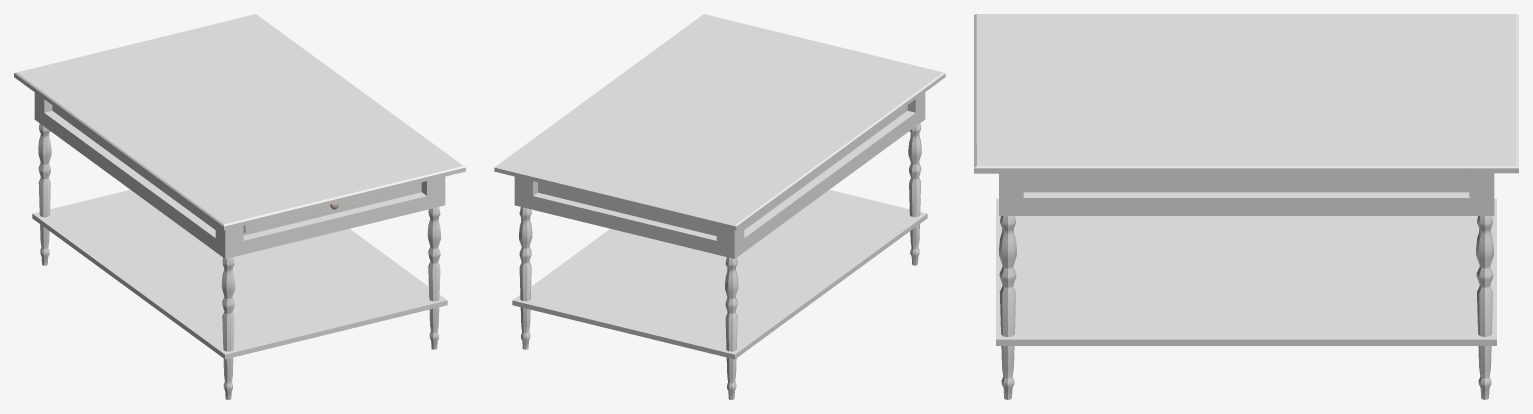
Rendered from prop_sewing_table.fbx.
The picture shows the model from 3 angles, left to right: view 1: azimuth 30°, elevation 25°; view 2: azimuth 150°, elevation 25°; view 3: azimuth 270°, elevation 25°; orthographic projection. The views are drawn at different scales.
Parts seen in each view (by area): view 1: Mesa de corte; view 2: Mesa de corte; view 3: Mesa de corte.
Part boxes in pixels (left/top/right/bottom): Mesa de corte: left=14, top=14, right=465, bottom=399; Mesa de corte: left=494, top=14, right=945, bottom=399; Mesa de corte: left=974, top=14, right=1518, bottom=399.
Bounding box in the file's own units: 120 × 88.68 × 180.
2 materials, 2 textured.
